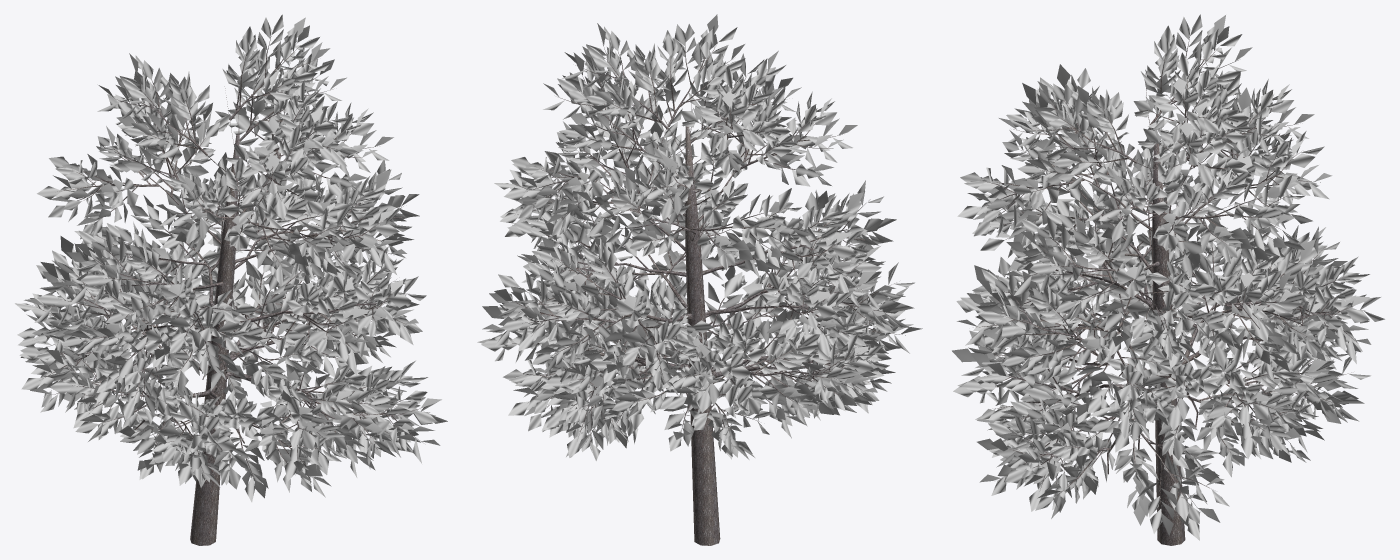
The model's file is tree3D.fbx.
The picture shows the model from 3 angles, left to right: view 1: azimuth 30°, elevation 25°; view 2: azimuth 150°, elevation 25°; view 3: azimuth 270°, elevation 25°; orthographic projection. The views are drawn at different scales.
Parts seen in each view (by area): view 1: Folhas01, Tronco; view 2: Folhas01, Tronco; view 3: Folhas01, Tronco.
Boxes of the visible parts, box(x1,y1,x2,y2) form: Folhas01: box(15, 14, 447, 502); Tronco: box(32, 33, 429, 545); Folhas01: box(477, 14, 922, 460); Tronco: box(501, 43, 905, 545); Folhas01: box(952, 14, 1384, 540); Tronco: box(973, 35, 1364, 545).
Bounding box in the file's own units: 6909 × 8566 × 6528.
